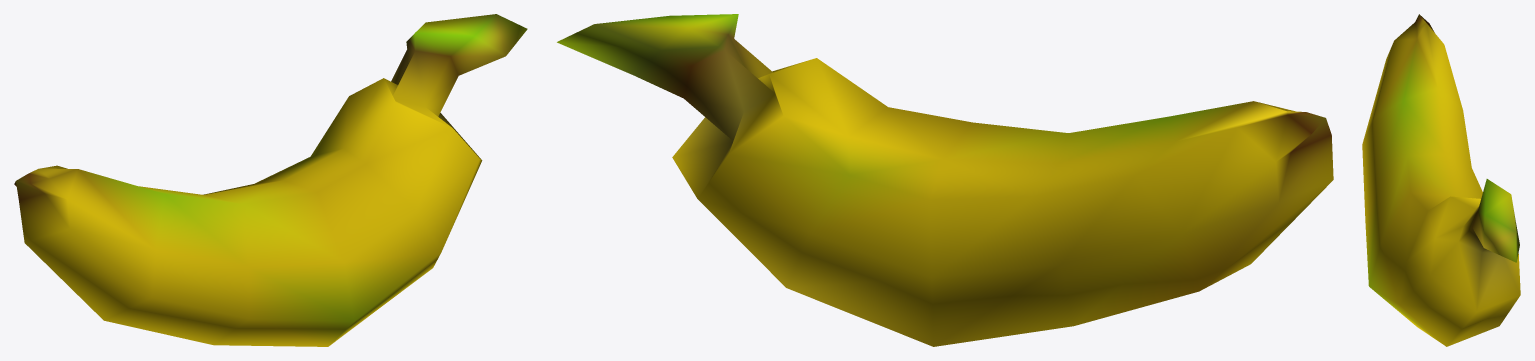
The model's file is banana2.glb.
3 views of the same model, side by side, from view 1: azimuth 30°, elevation 25°; view 2: azimuth 150°, elevation 25°; view 3: azimuth 270°, elevation 25° (orthographic). The views are drawn at different scales.
Visible parts, largest first — view 1: node_id4; view 2: node_id4; view 3: node_id4.
Part boxes in pixels (x1,y1,x2,y2): node_id4: [14, 14, 527, 346]; node_id4: [557, 14, 1333, 346]; node_id4: [1362, 14, 1520, 346].
Size of the model in its own units: 0.4678 by 0.1947 by 0.1403.
1 material, 1 textured.
